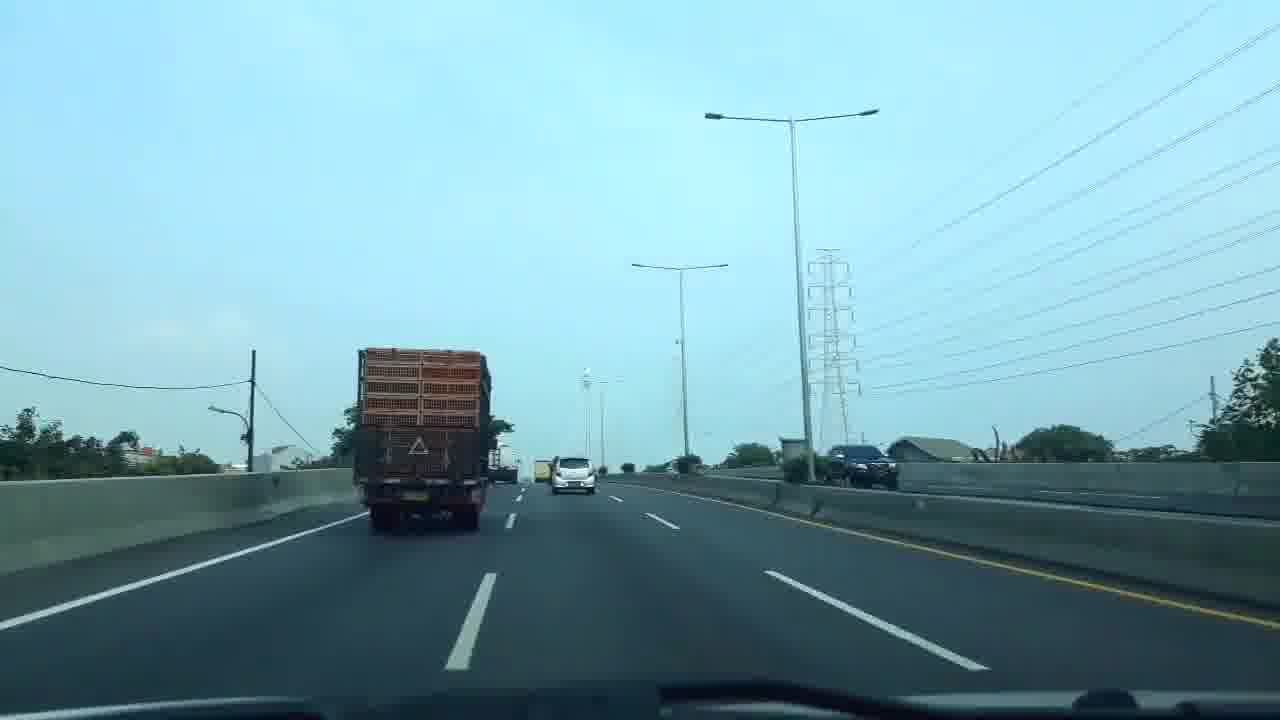plate_positive: (399, 491, 431, 503), (568, 482, 581, 487)
